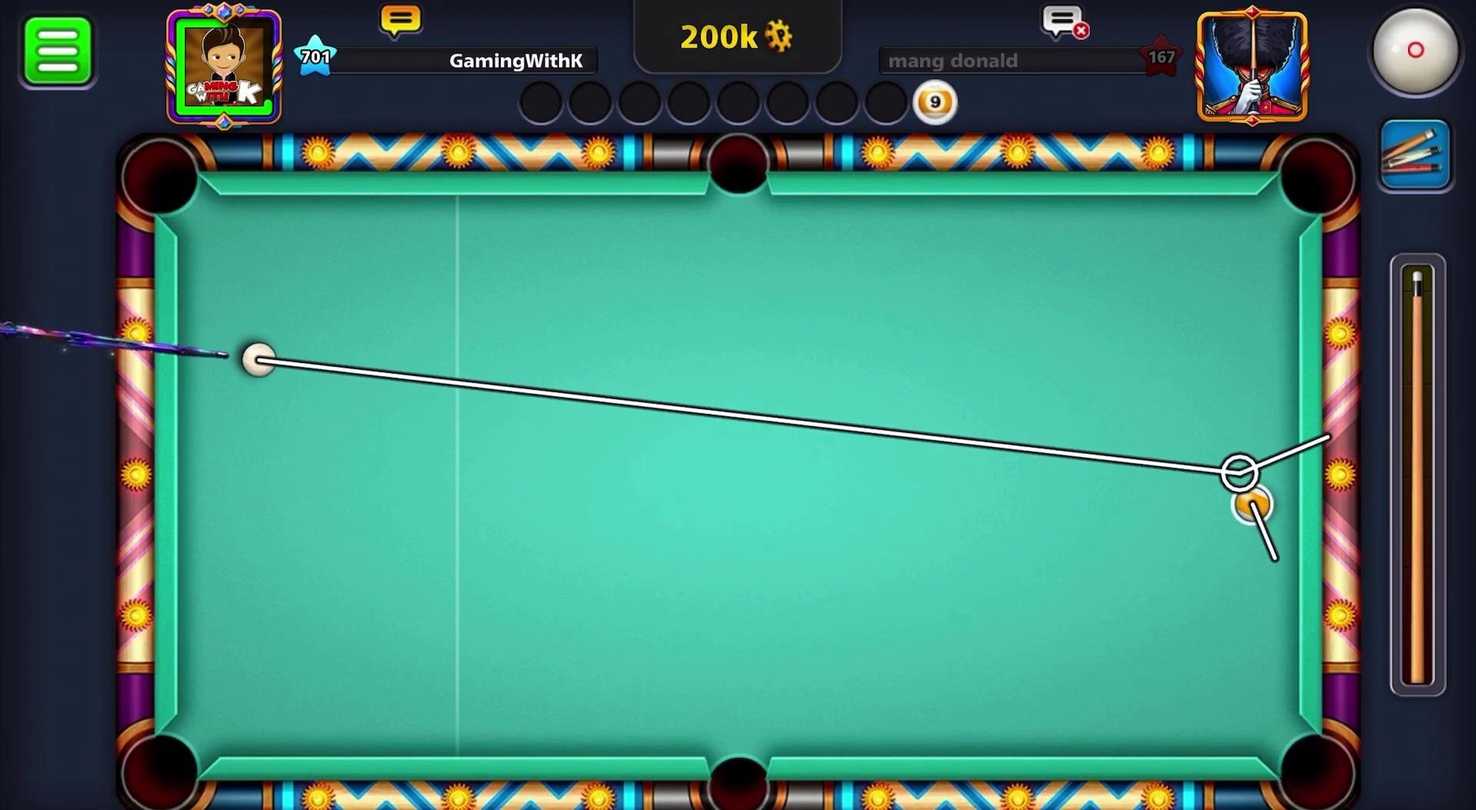Ball: (1229, 483, 1276, 529)
Force: (1388, 254, 1451, 702)
Guideline: (259, 343, 1339, 573)
Hole: (108, 126, 215, 232), (1269, 129, 1366, 230), (110, 719, 212, 809), (1265, 719, 1364, 809), (685, 735, 785, 809), (699, 129, 776, 205)
Play_Area: (185, 194, 1296, 777)
Spin: (1345, 0, 1475, 112)
White: (230, 333, 282, 385)
